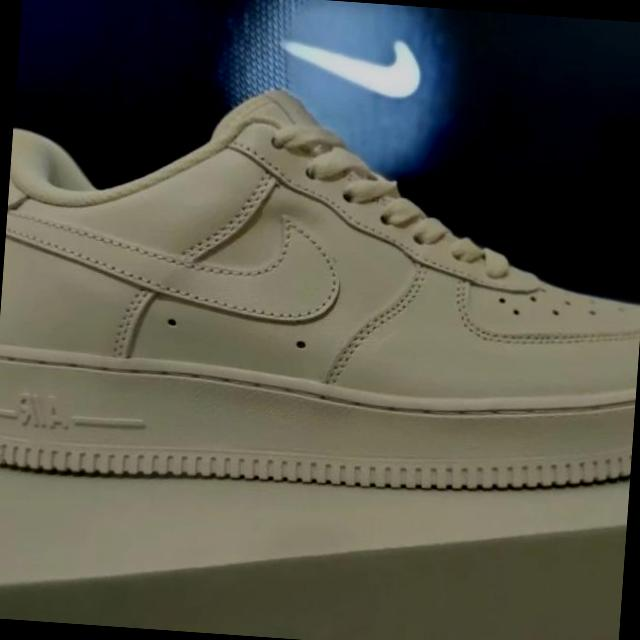nike_original_airforce: (0, 70, 640, 519)
